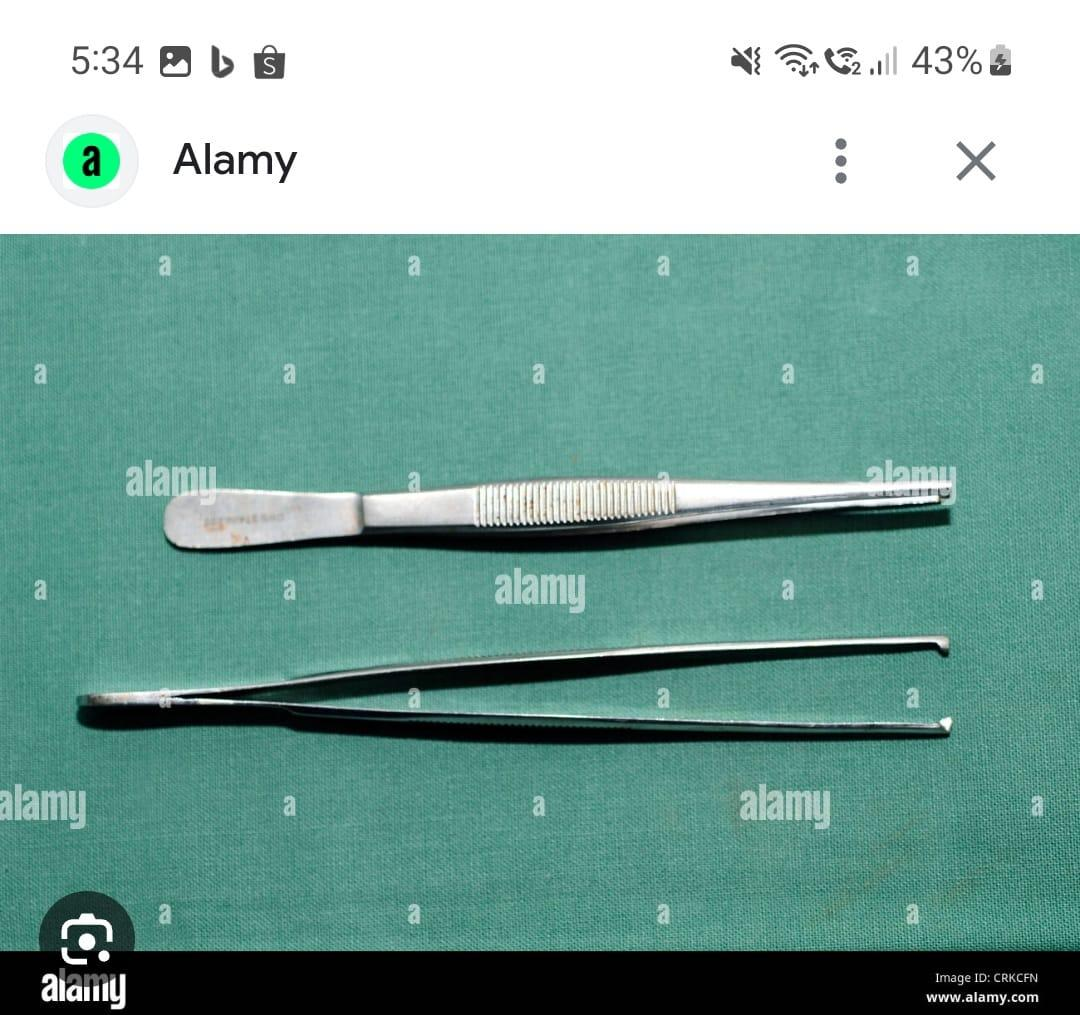Dissecting Forceps Tooth: (74, 614, 973, 759)
